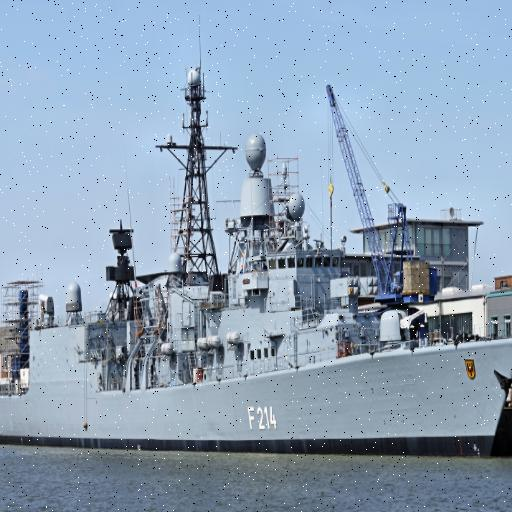Fragata: (1, 36, 512, 470)
